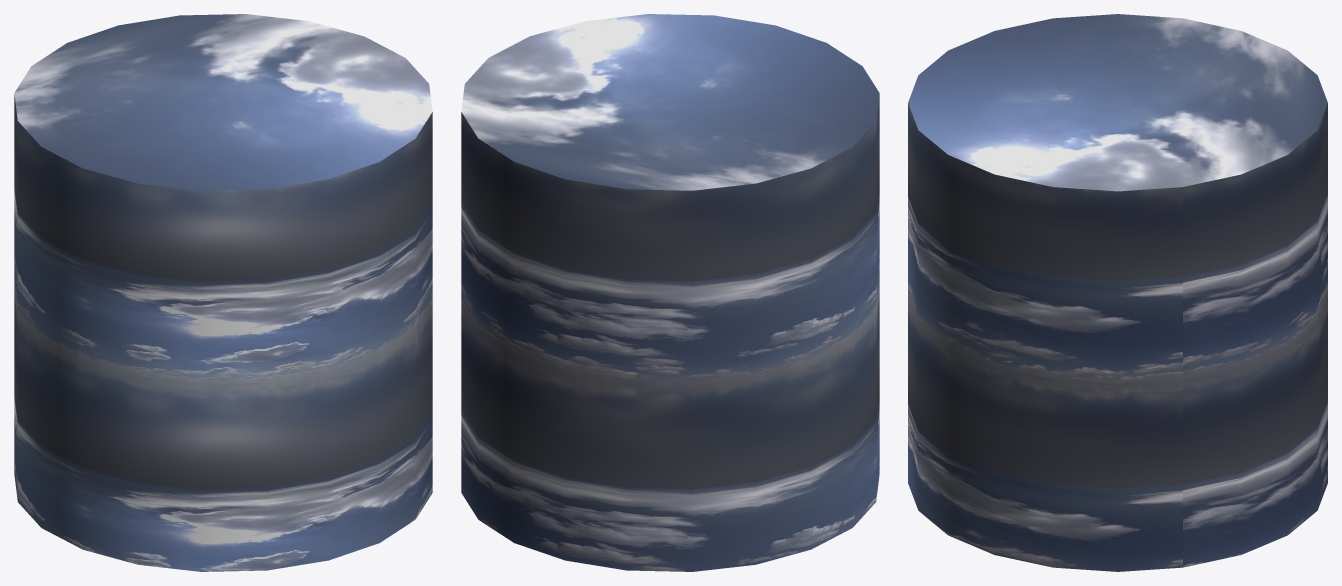
File: BackSky3.fbx
3 views of the same model, side by side, from view 1: azimuth 30°, elevation 25°; view 2: azimuth 150°, elevation 25°; view 3: azimuth 270°, elevation 25° (orthographic).
Parts seen in each view (by area): view 1: pCylinder1; view 2: pCylinder1; view 3: pCylinder1.
Part boxes in pixels (x1=…): pCylinder1: x1=14, y1=14, x2=432, y2=571; pCylinder1: x1=461, y1=14, x2=879, y2=571; pCylinder1: x1=908, y1=14, x2=1327, y2=571.
Bounding box in the file's own units: 44.12 × 44.12 × 44.12.
Materials: 1 (1 with a texture image).
